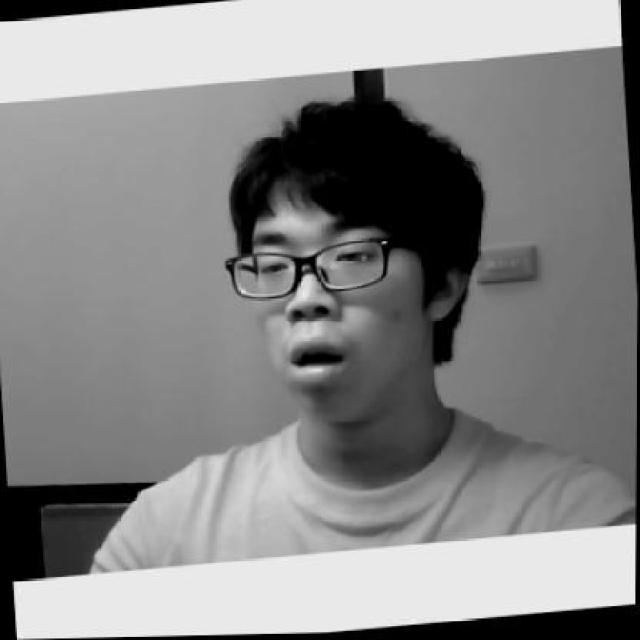inattentif: (212, 86, 479, 432)
